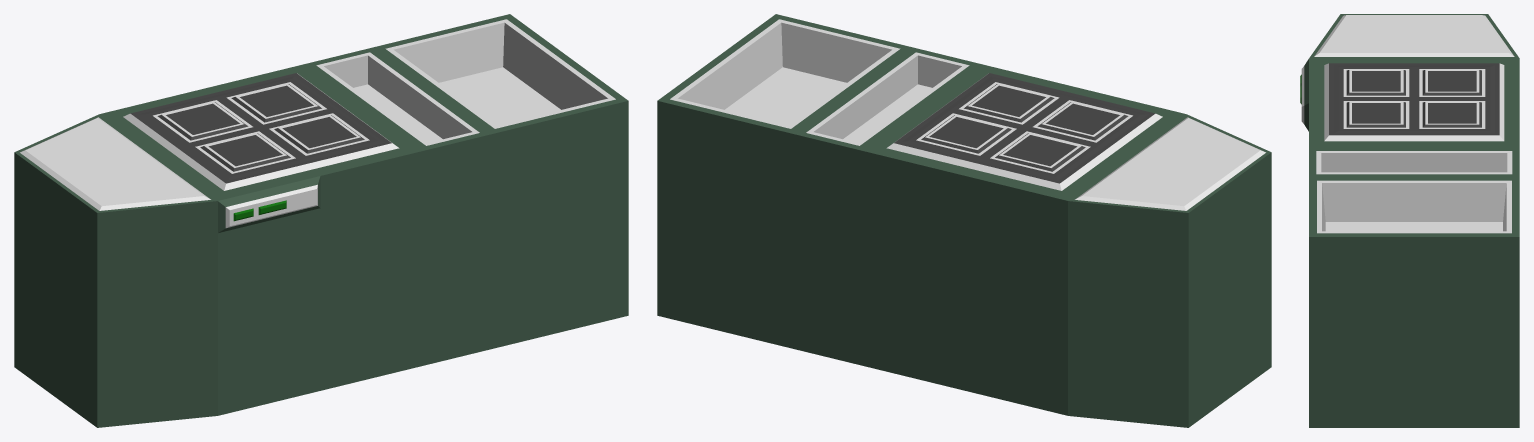
File: Полевая кухня.fbx
3 views of the same model, side by side, from view 1: azimuth 30°, elevation 25°; view 2: azimuth 150°, elevation 25°; view 3: azimuth 270°, elevation 25° (orthographic). The views are drawn at different scales.
Parts seen in each view (by area): view 1: Cube.001; view 2: Cube.001; view 3: Cube.001.
Boxes of the visible parts, x1=… form: Cube.001: x1=14, y1=14, x2=628, y2=427; Cube.001: x1=657, y1=14, x2=1271, y2=427; Cube.001: x1=1300, y1=14, x2=1519, y2=427.
Bounding box in the file's own units: 500 × 206 × 208.
